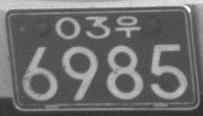0: (54, 16, 80, 39)
3: (84, 15, 110, 39)
5: (149, 43, 188, 101)
6: (20, 45, 59, 102)
8: (105, 44, 143, 101)
9: (61, 45, 99, 101)
우: (115, 14, 140, 38)
